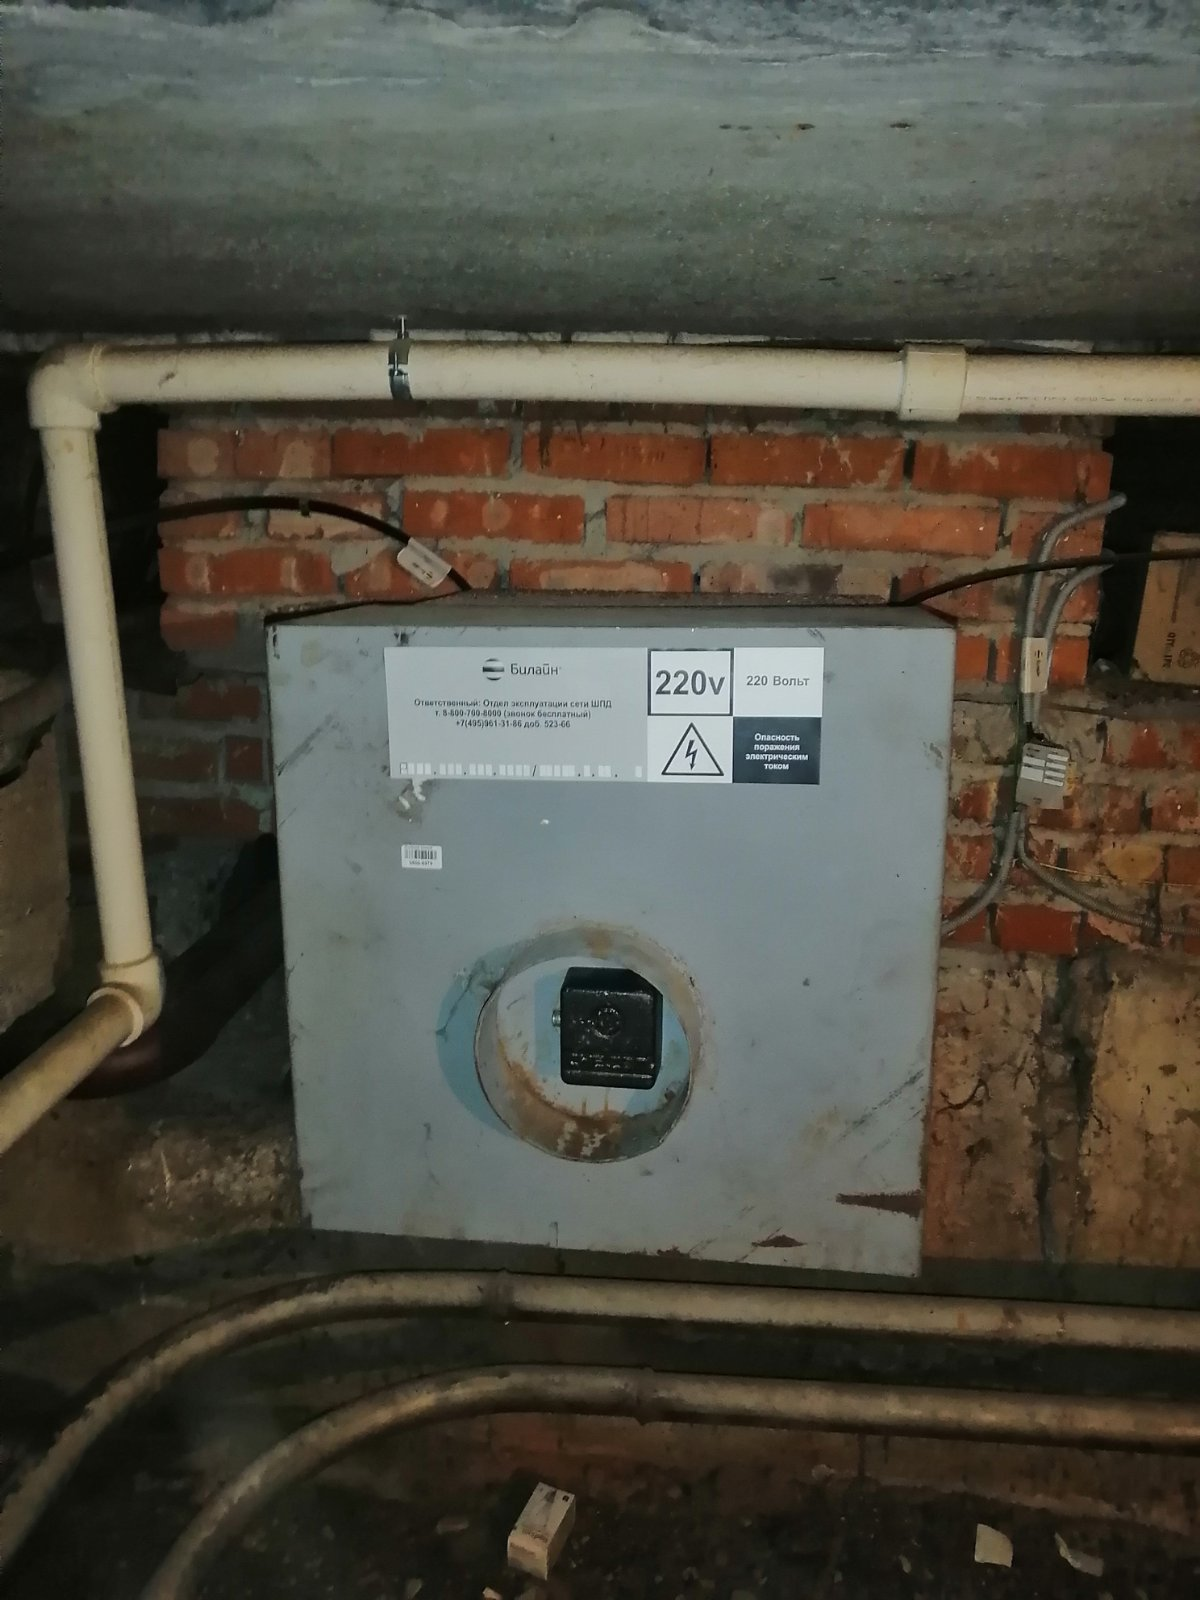shta-9: (250, 564, 976, 1299)
